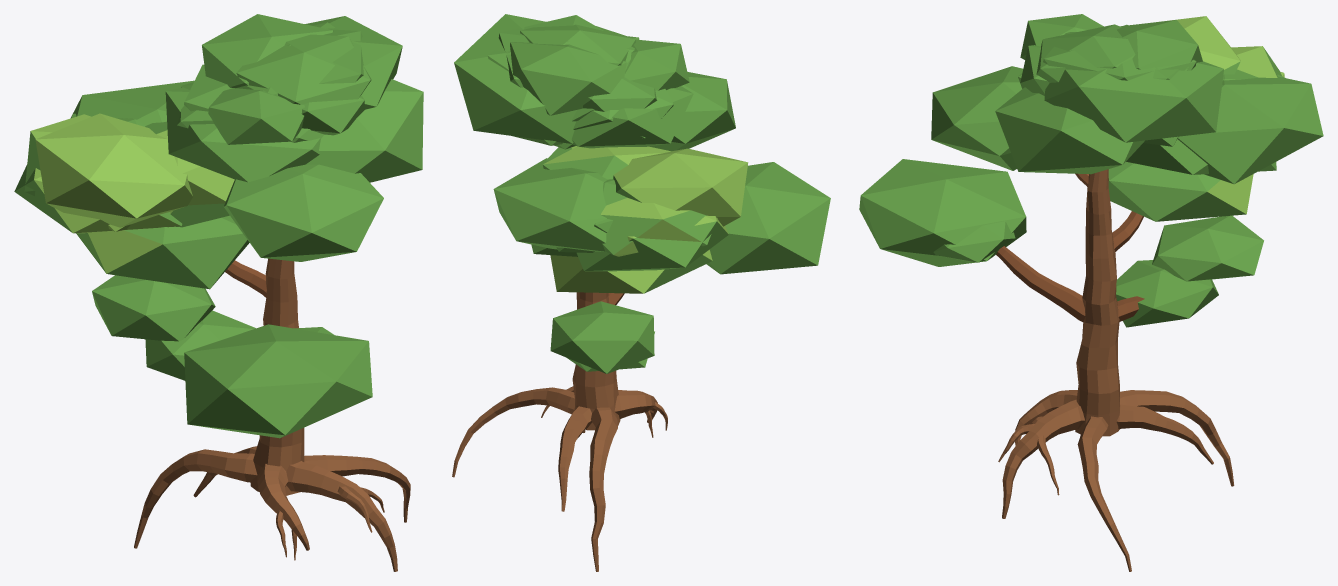
Rendered from tree3.fbx.
3 renders of one model, left to right at view 1: azimuth 30°, elevation 25°; view 2: azimuth 150°, elevation 25°; view 3: azimuth 270°, elevation 25°, orthographic. The views are drawn at different scales.
Parts seen in each view (by area): view 1: TreeLeaves, TreeWood; view 2: TreeLeaves, TreeWood; view 3: TreeLeaves, TreeWood.
Boxes of the visible parts, x1,y1,x2,y2 form: TreeLeaves: (14, 14, 423, 438); TreeWood: (134, 258, 410, 571); TreeLeaves: (454, 14, 830, 373); TreeWood: (452, 292, 667, 571); TreeLeaves: (859, 14, 1323, 327); TreeWood: (996, 169, 1234, 571).
Size of the model in its own units: 7.63 by 11.27 by 9.6.
